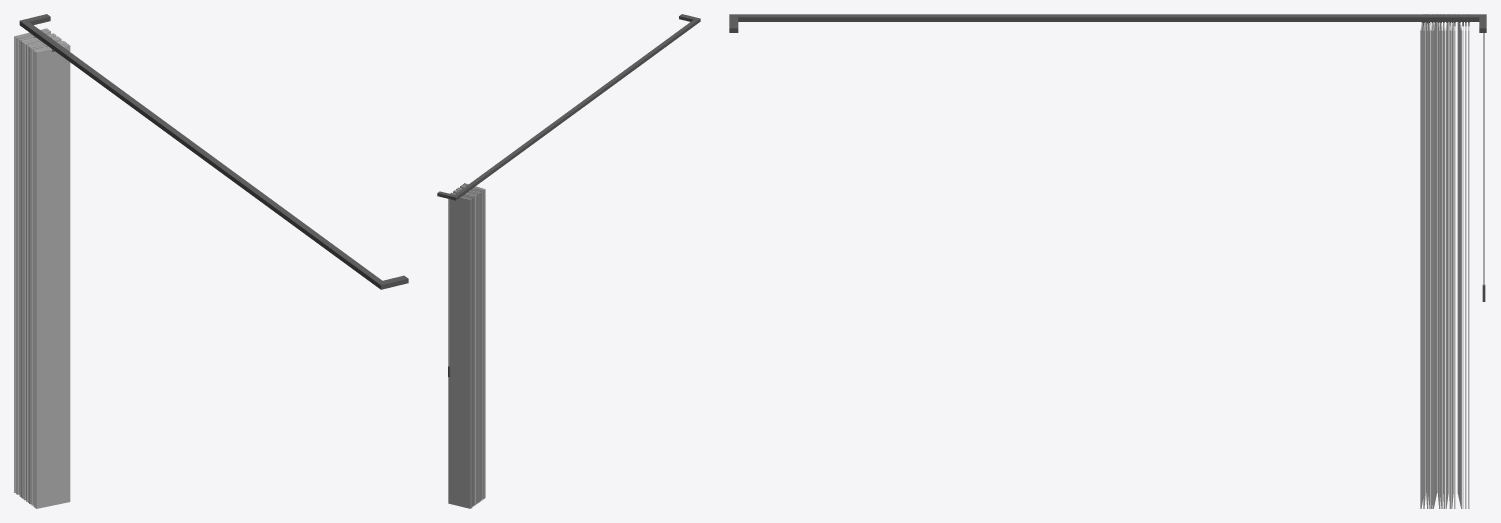
The model's file is Curtain09.fbx.
The picture shows the model from 3 angles, left to right: view 1: azimuth 30°, elevation 25°; view 2: azimuth 150°, elevation 25°; view 3: azimuth 270°, elevation 25°; orthographic projection. The views are drawn at different scales.
Visible parts, largest first — view 1: Curtain09; view 2: Curtain09; view 3: Curtain09.
Part boxes in pixels (left/top/right/bottom): Curtain09: left=14, top=14, right=408, bottom=508; Curtain09: left=437, top=14, right=700, bottom=508; Curtain09: left=729, top=14, right=1486, bottom=508.
Size of the model in its own units: 0.1696 by 2.6 by 1.84.
